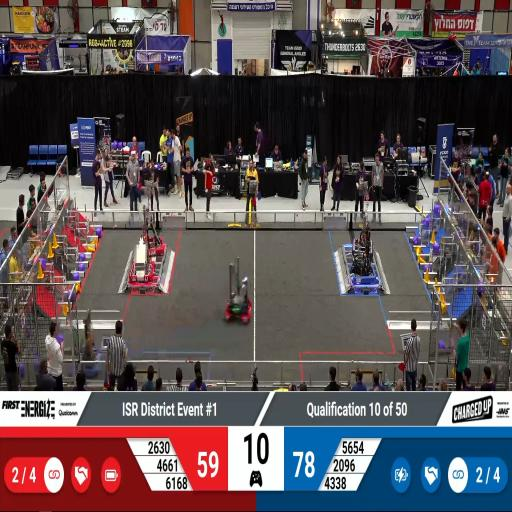robot: (222, 266, 253, 325), (74, 336, 104, 380), (138, 218, 165, 258), (350, 220, 375, 258), (129, 248, 155, 283), (349, 257, 378, 286)
